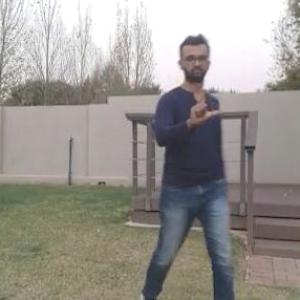land_hand: (182, 82, 224, 126)
